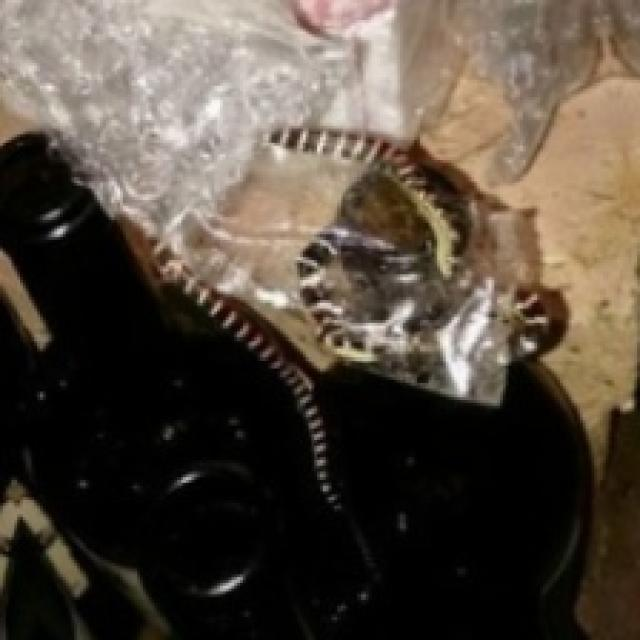paradise tree snake: (0, 134, 589, 637), (271, 129, 566, 400)
